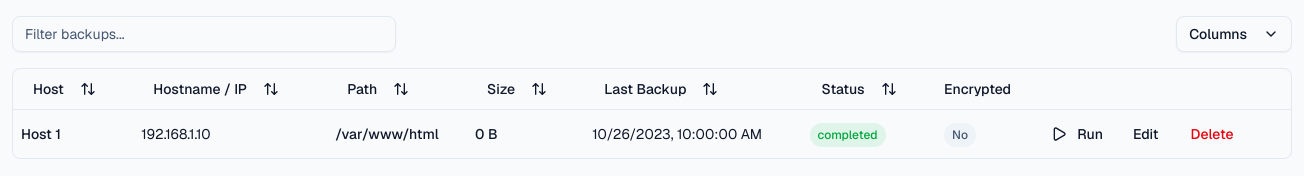
Test case: BackupsTable › Action Buttons › shows spinner while backup is running
Step 1. Click the button "Run" → click(1077, 134), box [1041,118,1113,150]
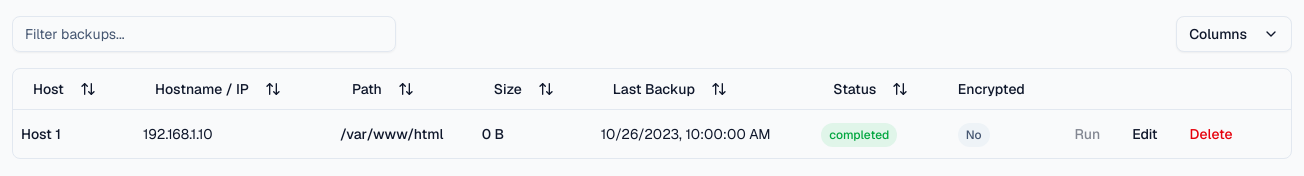
Expected: the button "Run" is disabled, [1056,118,1112,150]
